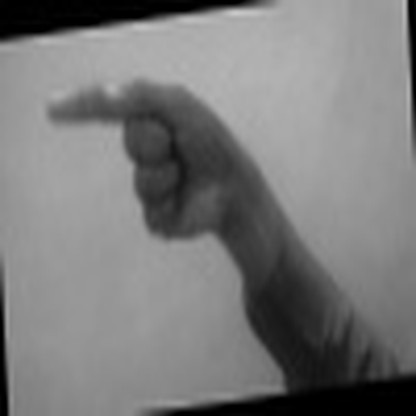g: (37, 61, 270, 243)
